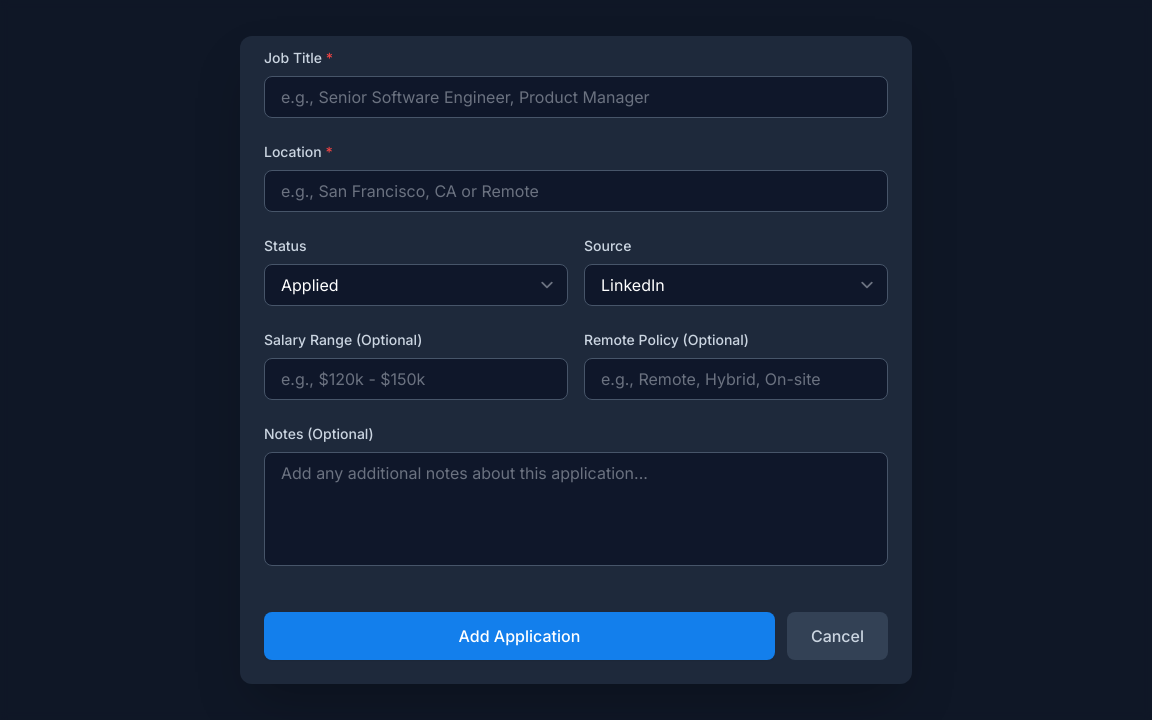
Test: Phase 4: Add Application Modal › should show validation errors for required fields
(page scrolled)
Click the button "Add Application".
click(519, 636)  # box x1=264 y1=612 x2=775 y2=660
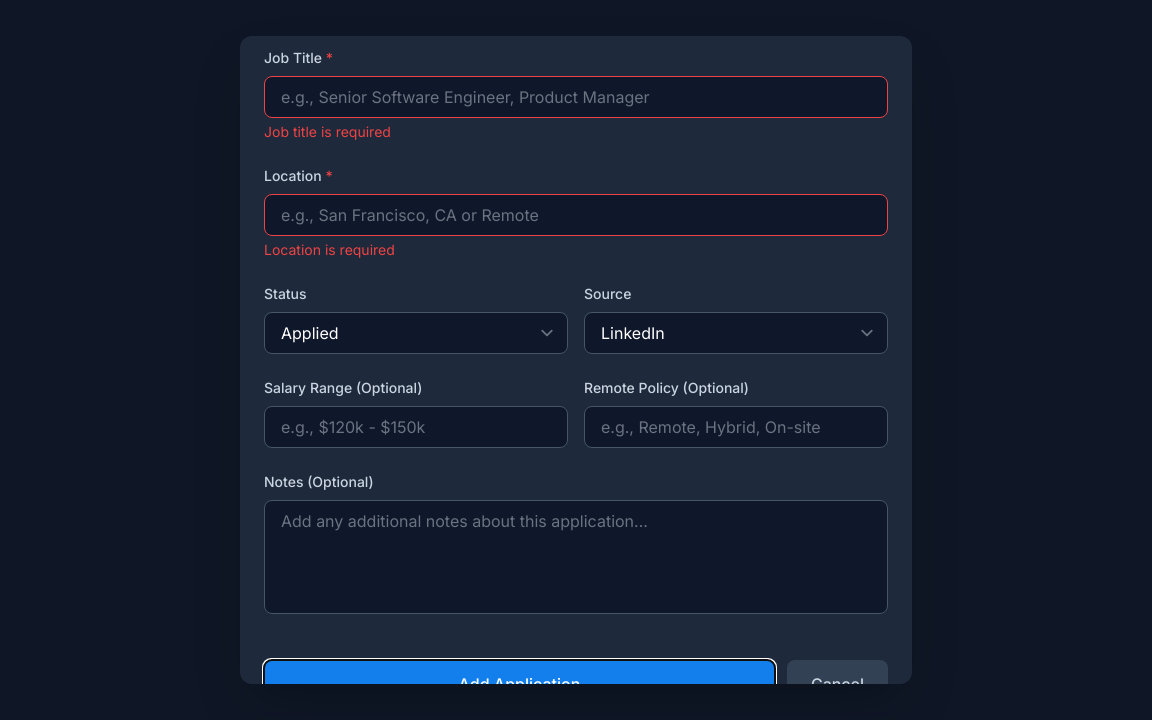
expect the text "Job title is required" is shown: met, box x1=264 y1=123 x2=391 y2=140
expect the text "Location is required" is shown: met, box x1=264 y1=241 x2=395 y2=258
